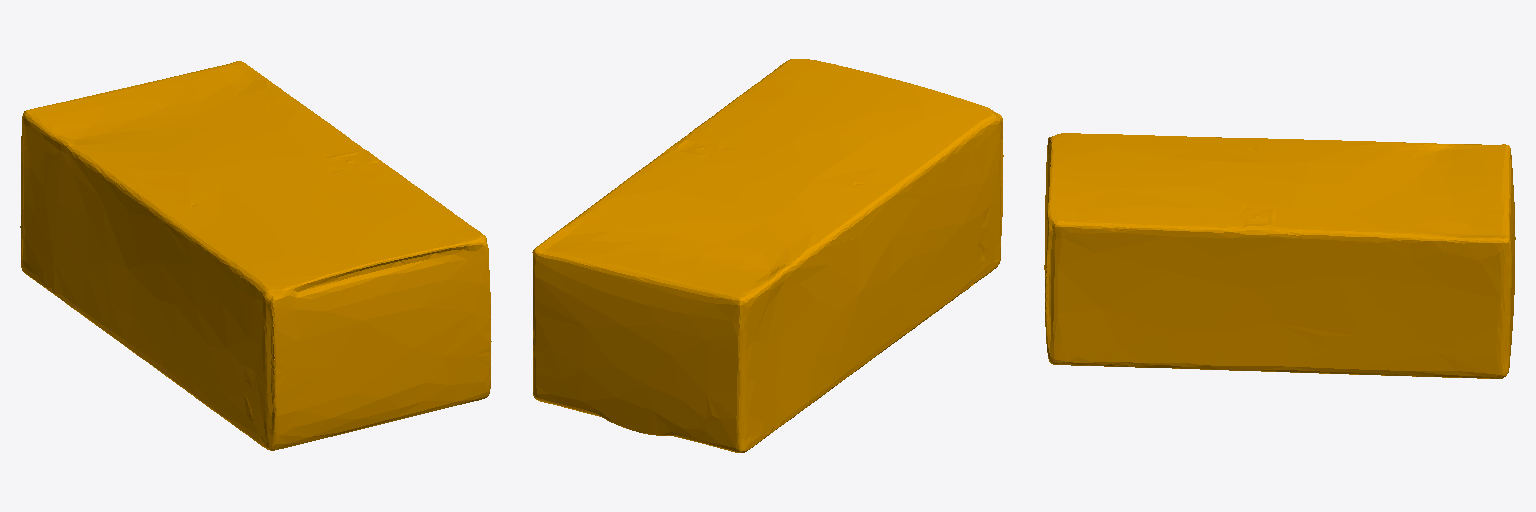
URDF robot description (model.urdf):
<?xml version="0.0" ?>
<robot name="model.urdf">
  <link name="baseLink">
    <visual>
			<origin xyz="0 0 0" rpy="-1.57 0 0"/>
      <geometry>
        <mesh filename="model.obj" scale="1 1 1"/>
      </geometry>
      <material name="white">
        <texture filename="assets/urdf_models/models/Perricone_MD_High_Potency_Evening_Repair_3/texture.png"/>
      </material>
    </visual>
    <collision>
      <geometry>
    	 	<mesh filename="model.obj" scale="1 1 1"/>
      </geometry>
    </collision>
    <inertial>
			<mass value="0.67176"/>
			<inertia  ixx="0.00093246" ixy="0.00"  ixz="0.00" iyy="0.001032" iyz="0.00" izz="0.00032528" />
		</inertial>
  </link>
</robot>

--- What the picture shows (computed from the rendered views, not written in the file) ---
Views: 3 orthographic renders of the robot side by side, from view 1: azimuth 30°, elevation 25°; view 2: azimuth 150°, elevation 25°; view 3: azimuth 270°, elevation 25°.
Model model.urdf with 1 links and 0 joints (none), rooted at baseLink, posed every joint at zero.
Links seen in each view (by area): view 1: baseLink; view 2: baseLink; view 3: baseLink.
Link boxes in pixels (x1=…): baseLink: x1=20, y1=61, x2=491, y2=450; baseLink: x1=532, y1=59, x2=1003, y2=452; baseLink: x1=1044, y1=133, x2=1515, y2=378.
Size in the robot's own frame: 0.0616 by 0.1212 by 0.0448 metres.
Meshes: 1 distinct files referenced, 1 mesh visuals loaded (1 OBJ).
